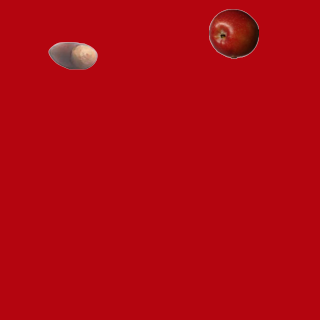Apple Braeburn: (208, 8, 258, 58)
Hazelnut: (47, 30, 97, 80)
